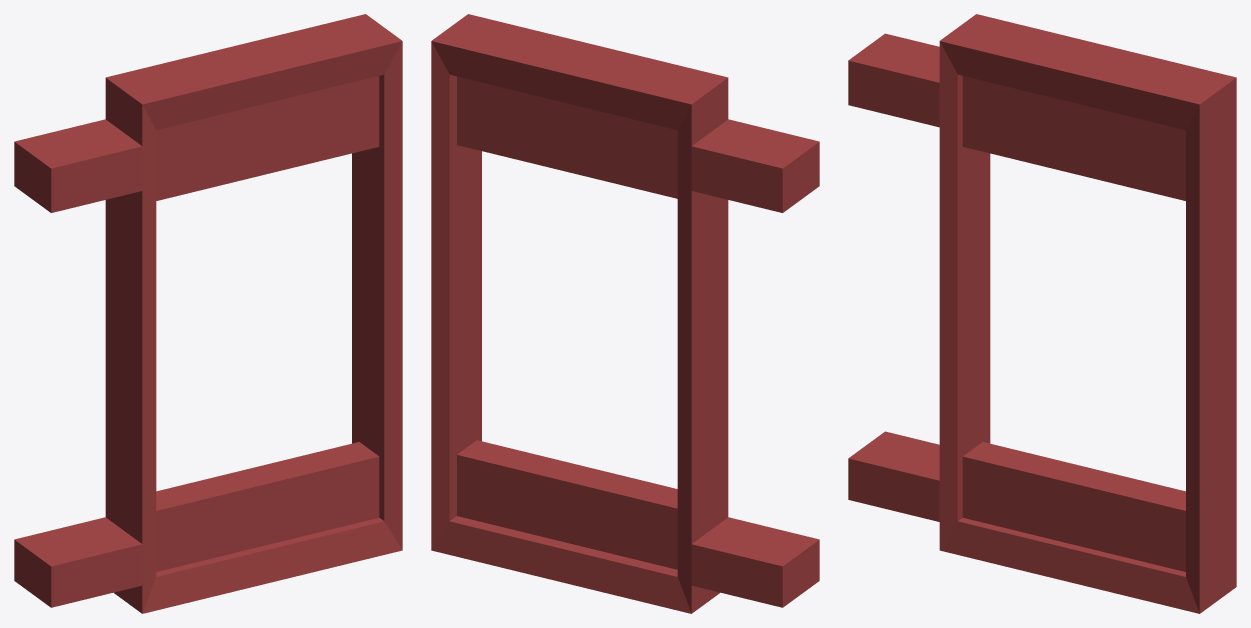
File: 3_Signlights_2.fbx
3 views of the same model, side by side, from view 1: azimuth 30°, elevation 25°; view 2: azimuth 150°, elevation 25°; view 3: azimuth 330°, elevation 25° (orthographic).
Parts seen in each view (by area): view 1: pasted__pasted___pasted__pCube31; view 2: pasted__pasted___pasted__pCube31; view 3: pasted__pasted___pasted__pCube31.
Part boxes in pixels (x1,y1,x2,y2): pasted__pasted___pasted__pCube31: (14,14,402,613); pasted__pasted___pasted__pCube31: (431,14,819,613); pasted__pasted___pasted__pCube31: (848,14,1236,613).
Size of the model in its own units: 1.22 by 1.69 by 0.2221.
